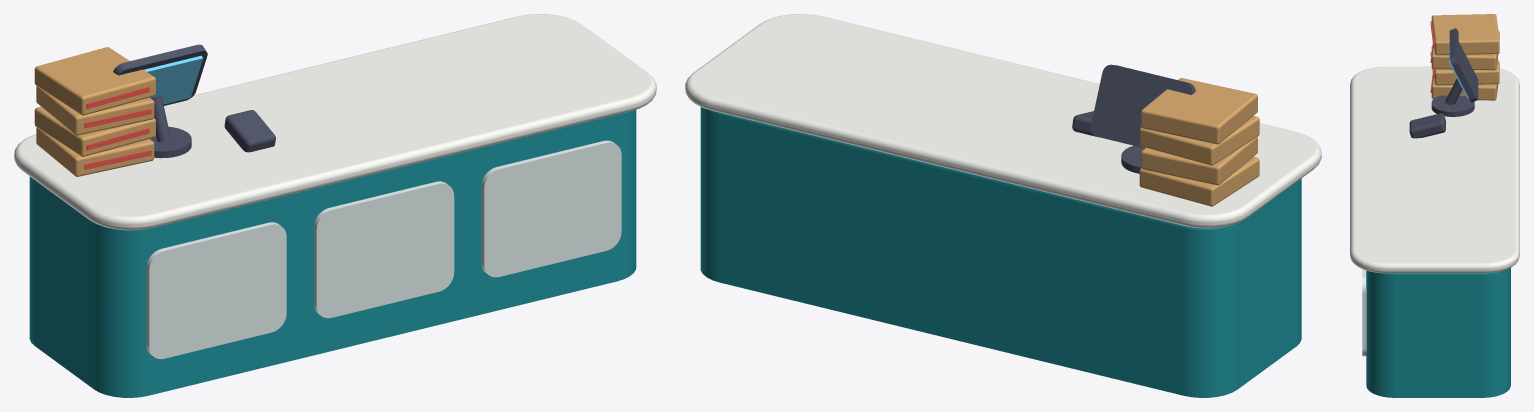
File: CounterV2.glb
The picture shows the model from 3 angles, left to right: view 1: azimuth 30°, elevation 25°; view 2: azimuth 150°, elevation 25°; view 3: azimuth 270°, elevation 25°; orthographic projection. The views are drawn at different scales.
Parts seen in each view (by area): view 1: counterTop, counterFront, counterPanel (×3), pizzaBox (×4), screenDark (×3), screenGlow; view 2: counterFront, counterTop, pizzaBox (×4), screenDark; view 3: counterTop, counterFront, pizzaBox (×4), screenDark (×4), counterPanel.
Part boxes in pixels (x1,y1,x2,y2): counterTop: [14, 14, 656, 230]; counterFront: [29, 110, 636, 397]; counterPanel (×3): [146, 140, 621, 358]; pizzaBox (×4): [34, 47, 155, 176]; screenDark (×3): [113, 44, 275, 158]; screenGlow: [144, 55, 203, 104]; counterFront: [700, 107, 1301, 397]; counterTop: [685, 14, 1321, 228]; pizzaBox (×4): [1139, 78, 1259, 206]; screenDark: [1090, 64, 1195, 148]; counterTop: [1350, 66, 1519, 273]; counterFront: [1366, 267, 1510, 397]; pizzaBox (×4): [1431, 14, 1499, 100]; screenDark (×4): [1409, 28, 1478, 138]; counterPanel: [1362, 269, 1366, 356].
Bounding box in the file's own units: 2.62 × 1.24 × 0.94.
